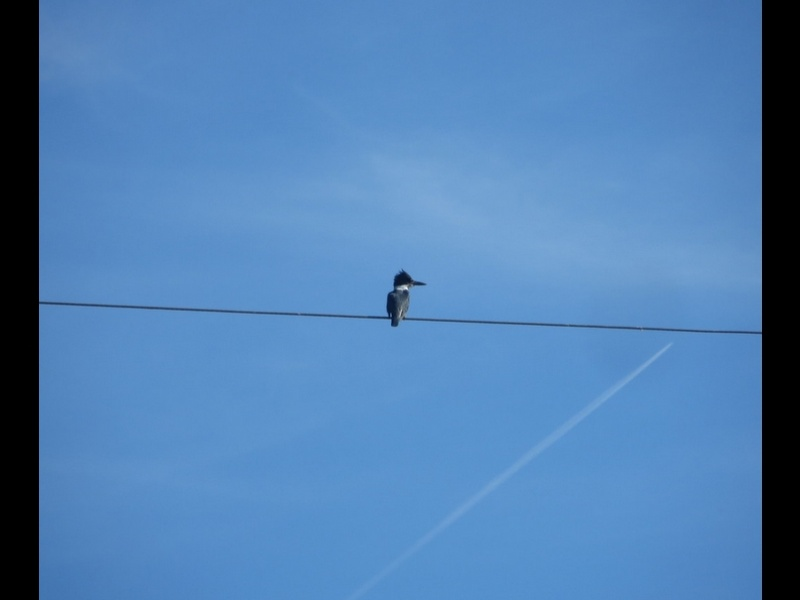kingfisher: (383, 269, 426, 329)
